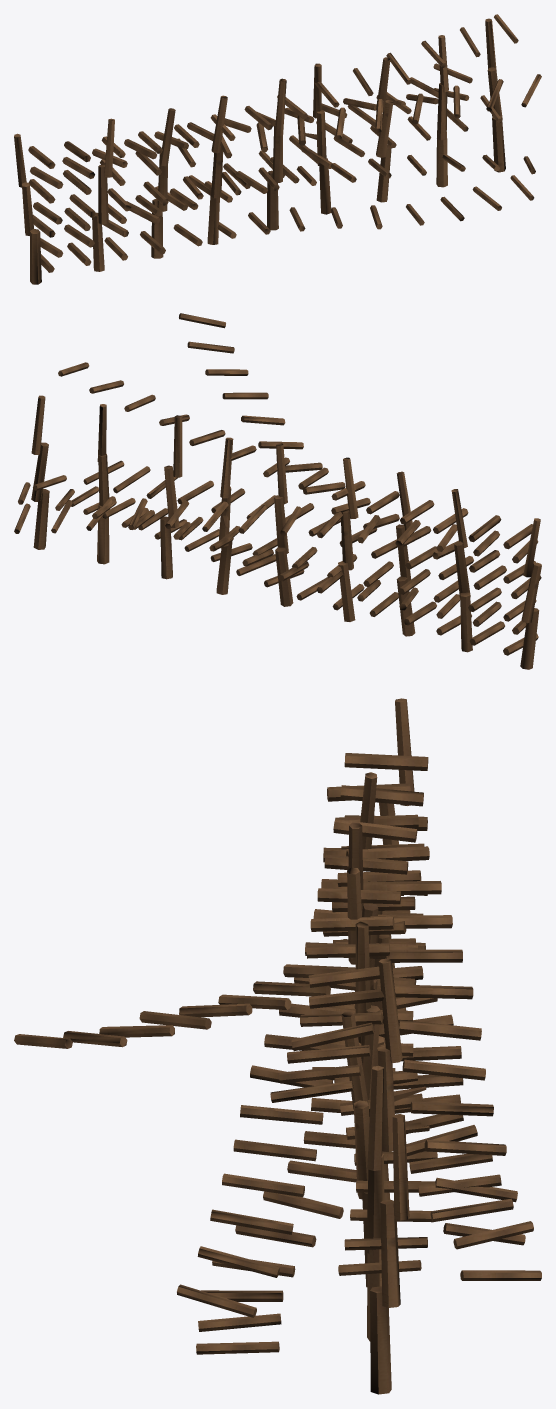
Rendered from wattle.glb.
The picture shows the model from 3 angles, top to bottom: view 1: azimuth 30°, elevation 25°; view 2: azimuth 150°, elevation 25°; view 3: azimuth 270°, elevation 25°; orthographic projection. The views are drawn at different scales.
Parts seen in each view (by area): view 1: wattle; view 2: wattle; view 3: wattle.
Boxes of the visible parts, x1,y1,x2,y2 form: wattle: (14,14,541,284); wattle: (14,313,541,669); wattle: (14,698,541,1394).
Size of the model in its own units: 4.21 by 1.41 by 2.18.
1 material, 1 textured.
